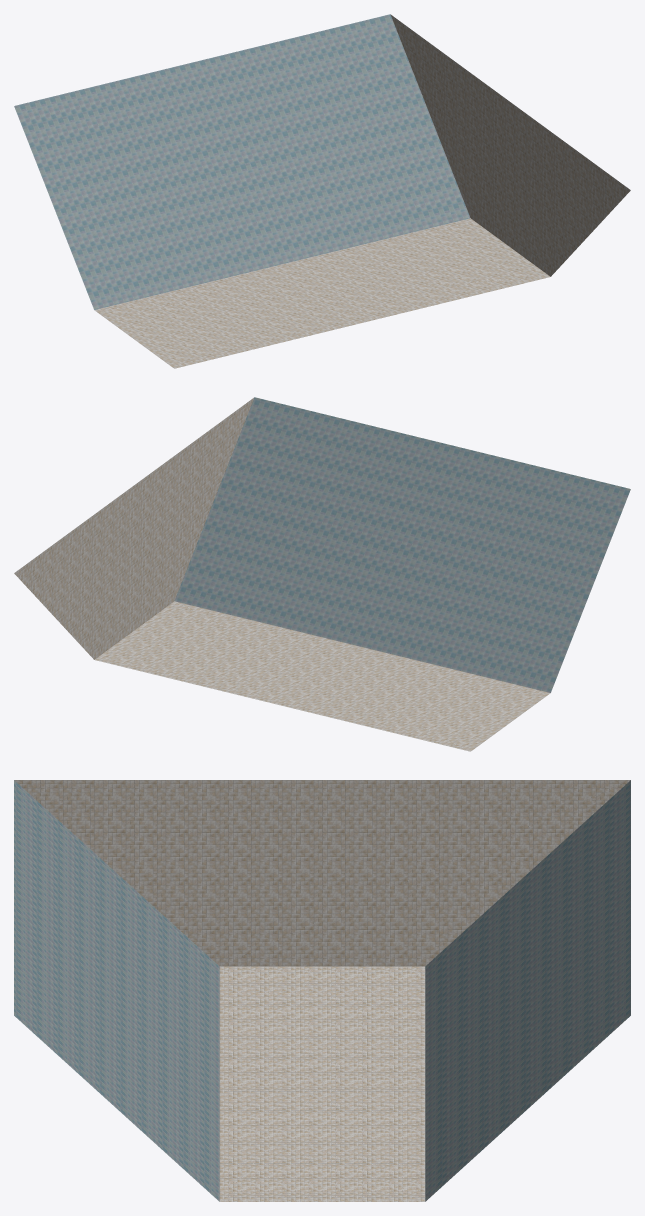
File: VaseShape.gltf
3 renders of one model, top to bottom at view 1: azimuth 30°, elevation 25°; view 2: azimuth 150°, elevation 25°; view 3: azimuth 270°, elevation 25°, orthographic. The views are drawn at different scales.
Parts seen in each view (by area): view 1: GlassThick, GlassThin; view 2: GlassThick, GlassThin; view 3: GlassThin, GlassThick.
Boxes of the visible parts, x1,y1,x2,y2 form: GlassThick: (14, 14, 470, 309); GlassThin: (94, 14, 630, 368); GlassThick: (174, 397, 630, 692); GlassThin: (14, 397, 550, 751); GlassThin: (14, 780, 630, 1201); GlassThick: (14, 780, 630, 1201).
Bounding box in the file's own units: 16.26 × 6 × 18.
2 materials, 2 textured.
